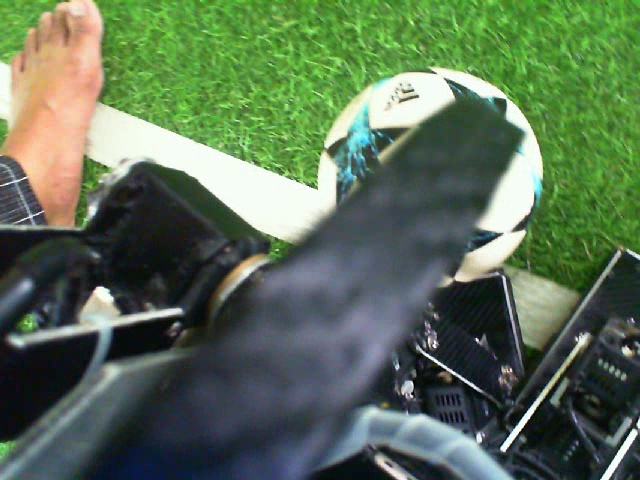ball: (313, 64, 473, 233)
